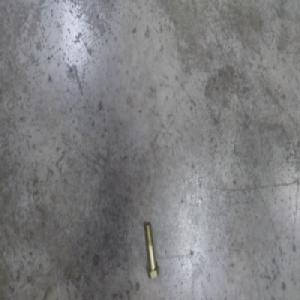Bolt: (143, 222, 160, 279)
